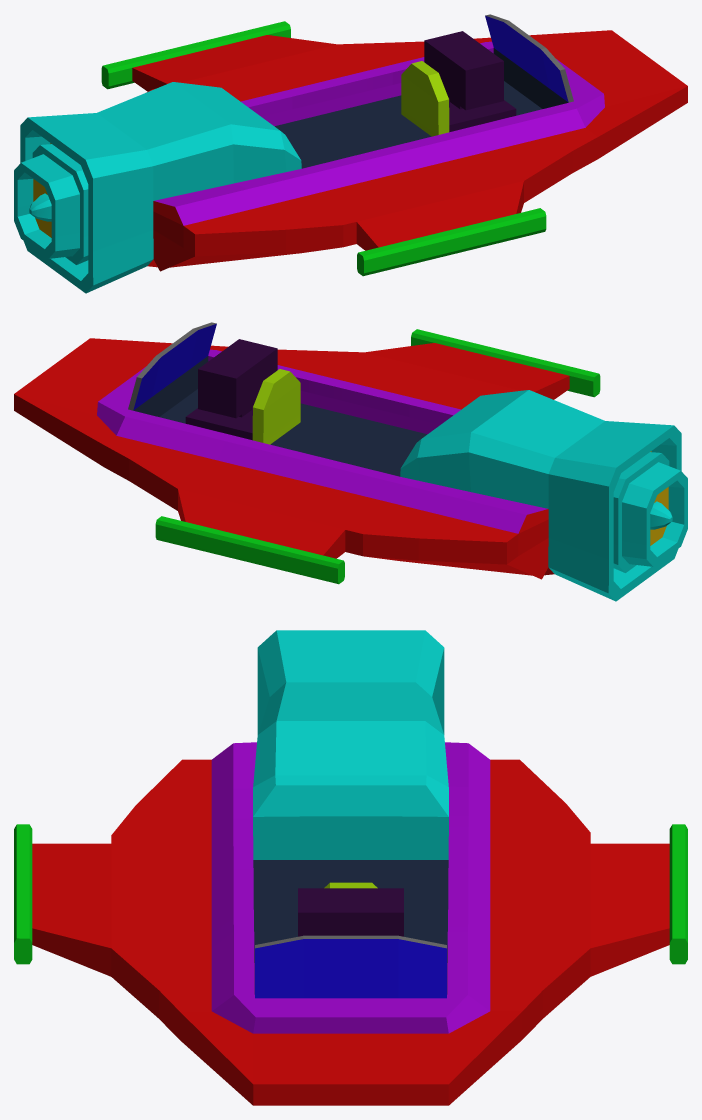
Rendered from Player.dae.
The picture shows the model from 3 angles, top to bottom: view 1: azimuth 30°, elevation 25°; view 2: azimuth 150°, elevation 25°; view 3: azimuth 270°, elevation 25°; orthographic projection. The views are drawn at different scales.
Visible parts, largest first — view 1: HCShipFBXASC058pCube10; view 2: HCShipFBXASC058pCube10; view 3: HCShipFBXASC058pCube10.
Part boxes in pixels (<box>): HCShipFBXASC058pCube10: <box>14,14,687,293</box>; HCShipFBXASC058pCube10: <box>14,322,687,601</box>; HCShipFBXASC058pCube10: <box>14,630,687,1105</box>.
Bounding box in the file's own units: 1.01 × 0.2127 × 0.7387.
